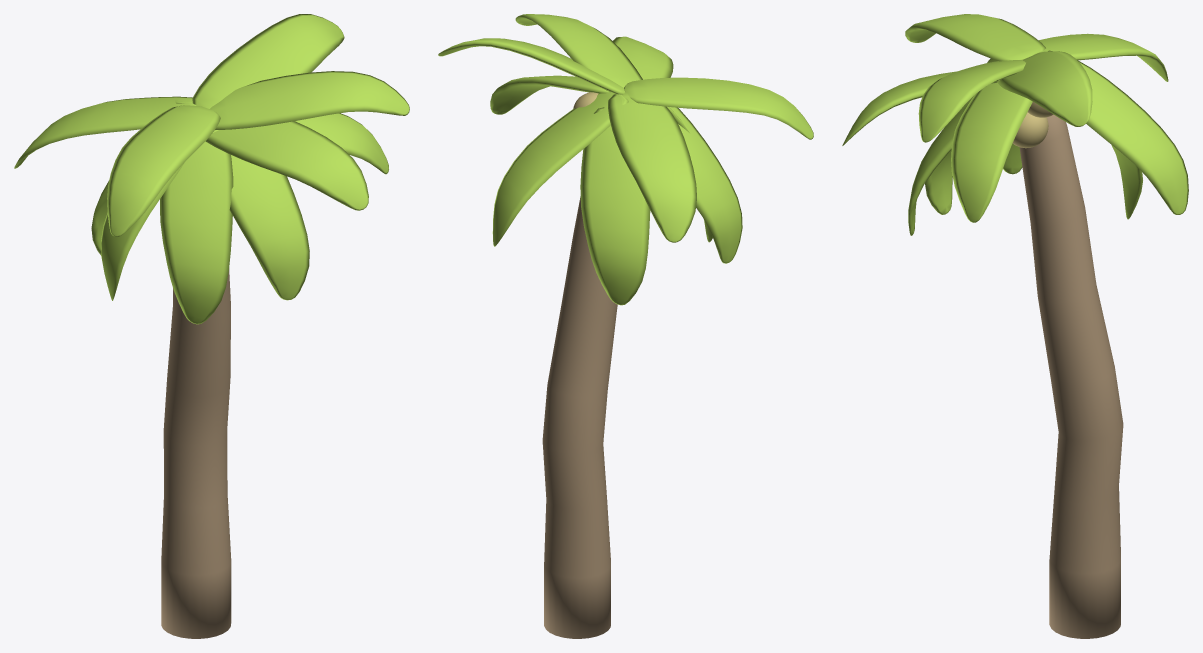
File: palmTree2.fbx
3 renders of one model, left to right at view 1: azimuth 30°, elevation 25°; view 2: azimuth 150°, elevation 25°; view 3: azimuth 270°, elevation 25°, orthographic. The views are drawn at different scales.
Visible parts, largest first — view 1: palm3.001; view 2: palm3.001; view 3: palm3.001.
Part boxes in pixels (x1,y1,x2,y2): palm3.001: [14, 14, 409, 638]; palm3.001: [438, 14, 813, 638]; palm3.001: [842, 14, 1188, 638].
Bounding box in the file's own units: 14161 × 25580 × 13424.
